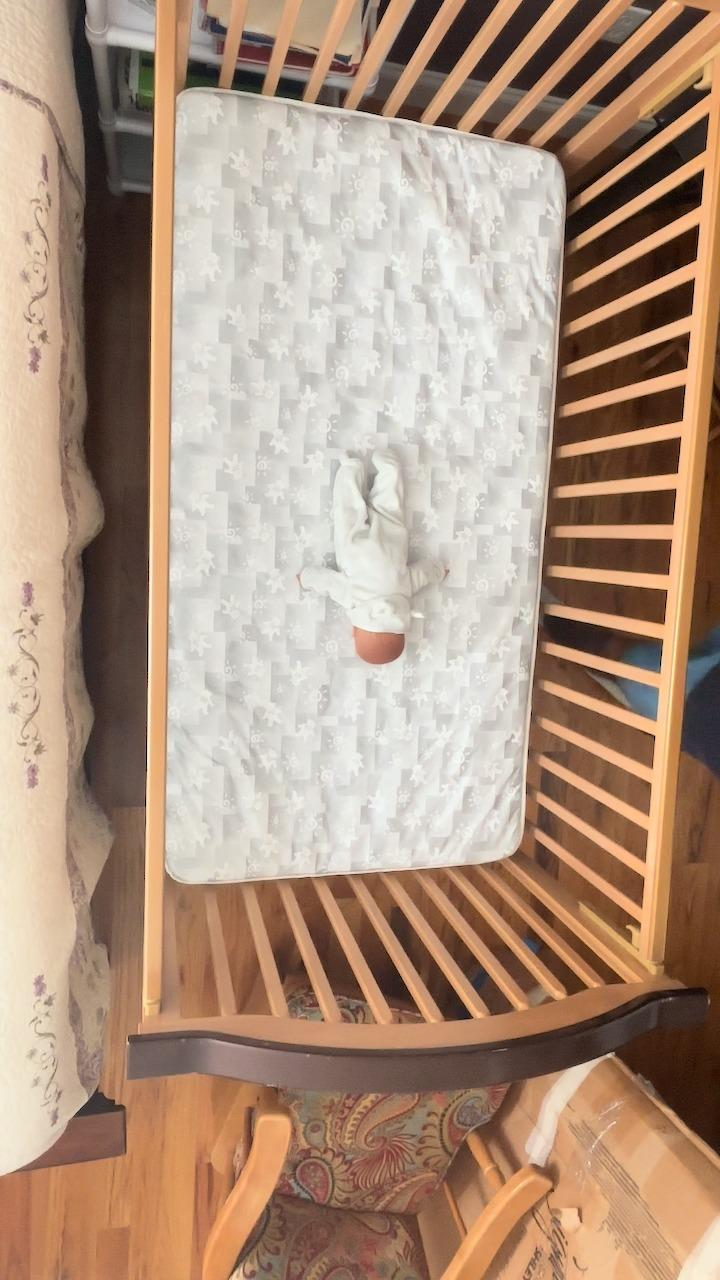baby: (292, 446, 453, 673)
